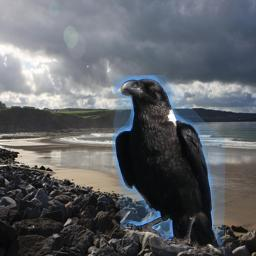Crow: (112, 75, 225, 254)
